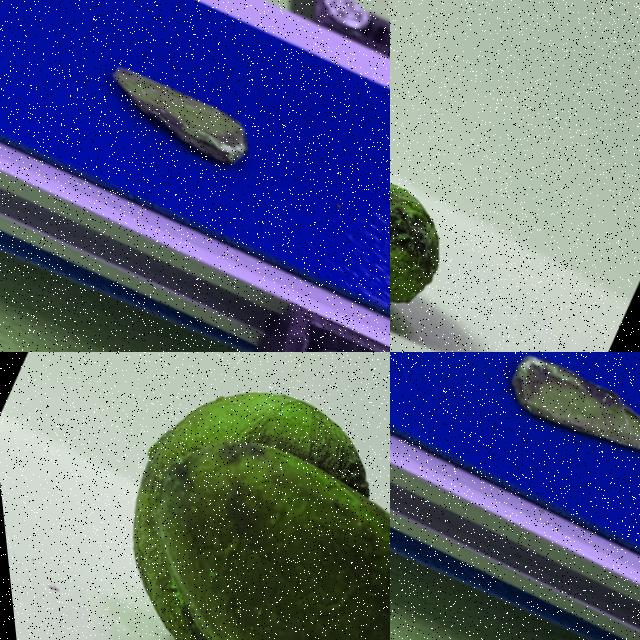Agglomerated_cocoabeans: (0, 352, 389, 639), (390, 11, 541, 351)
Flat_cocoabeans: (34, 7, 333, 232), (421, 352, 639, 542)
